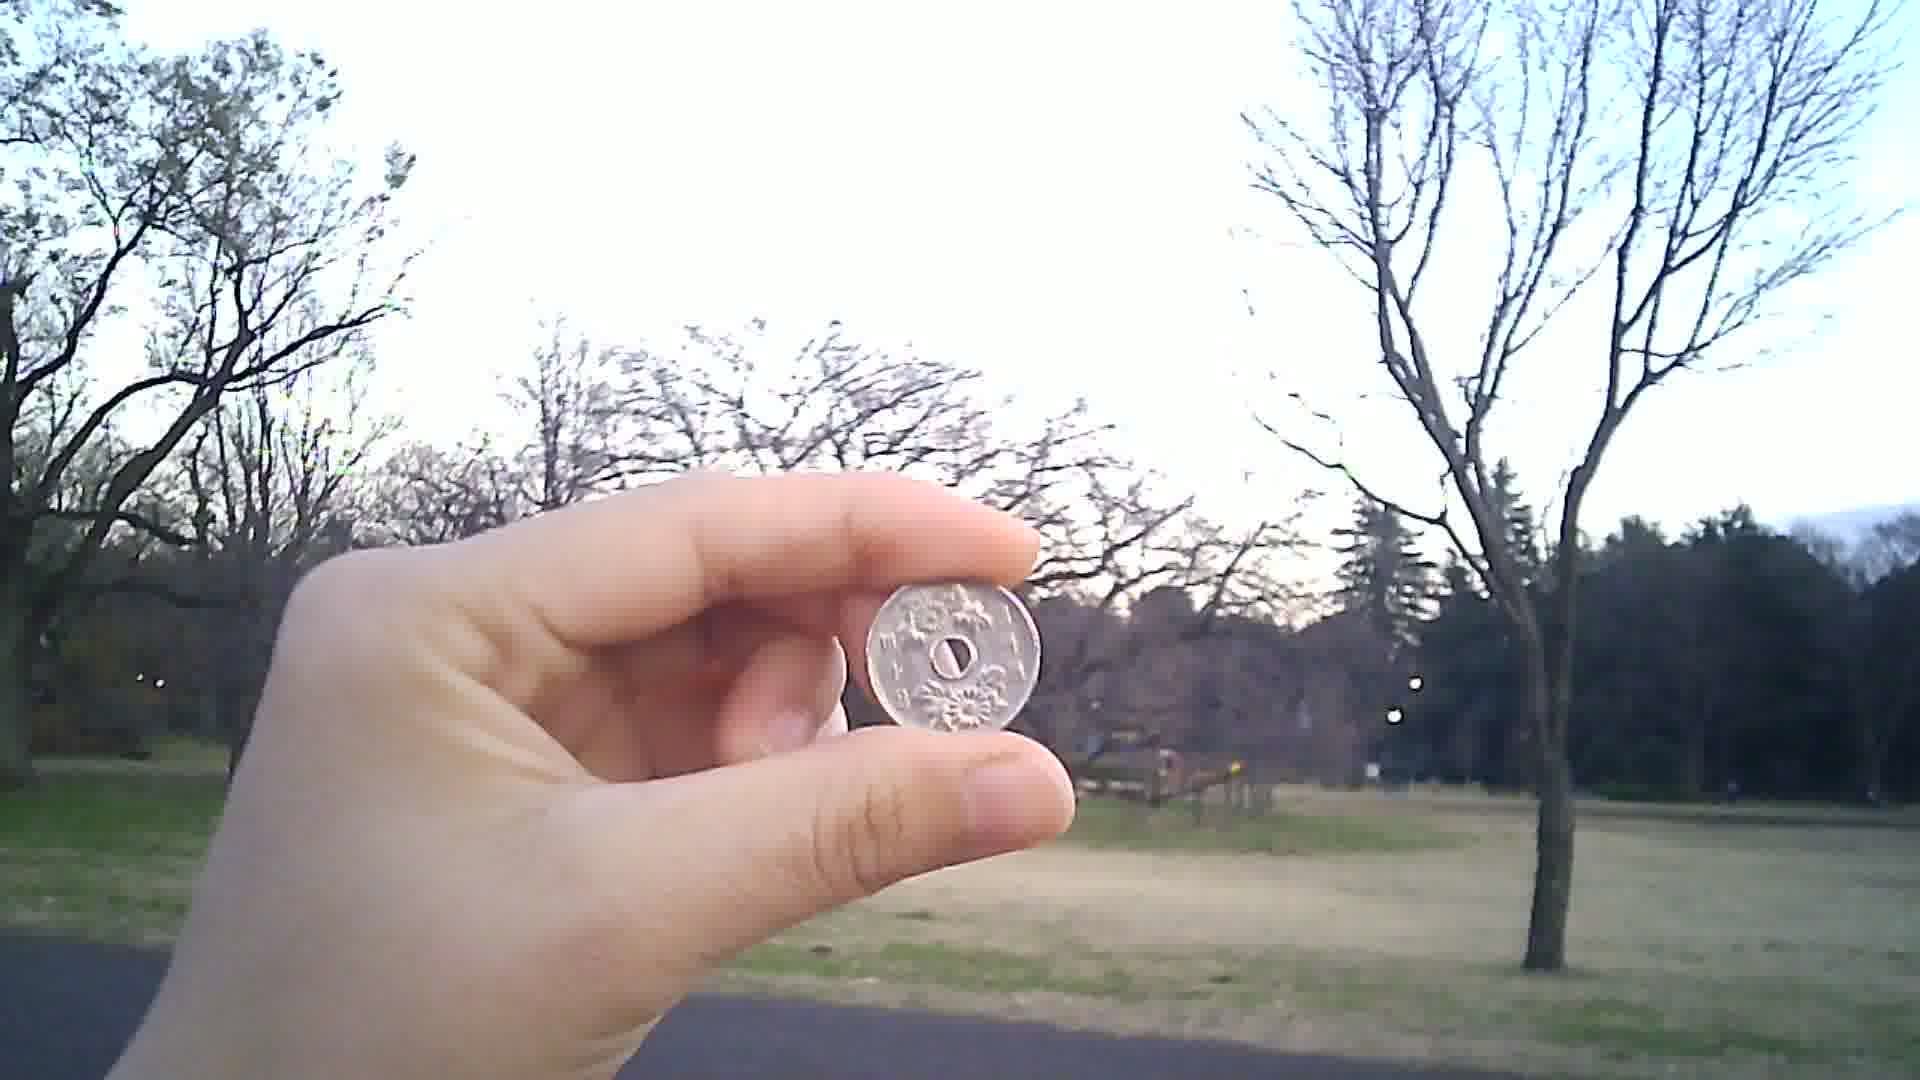50 Yen: (865, 571, 1058, 746)
